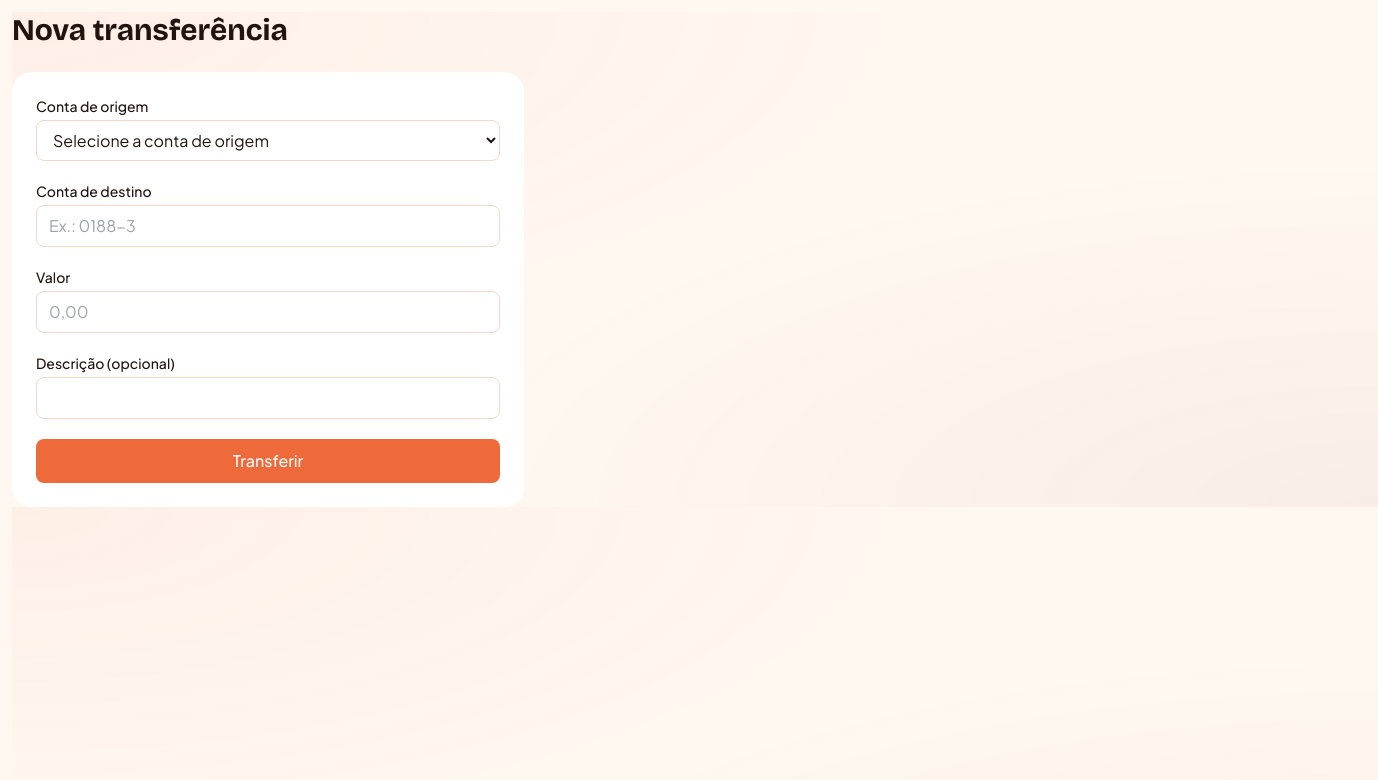
TransferenciaForm › valida campos obrigatórios
The image size is (1378, 780).
expect the dropdown labelled "Conta de origem" is shown: met, box 36,120 -> 500,161
What coordinates should you click on to do the following:
click the button "Transferir"
I would click on:
 (268, 461)
Its box is 36,439 -> 500,483.
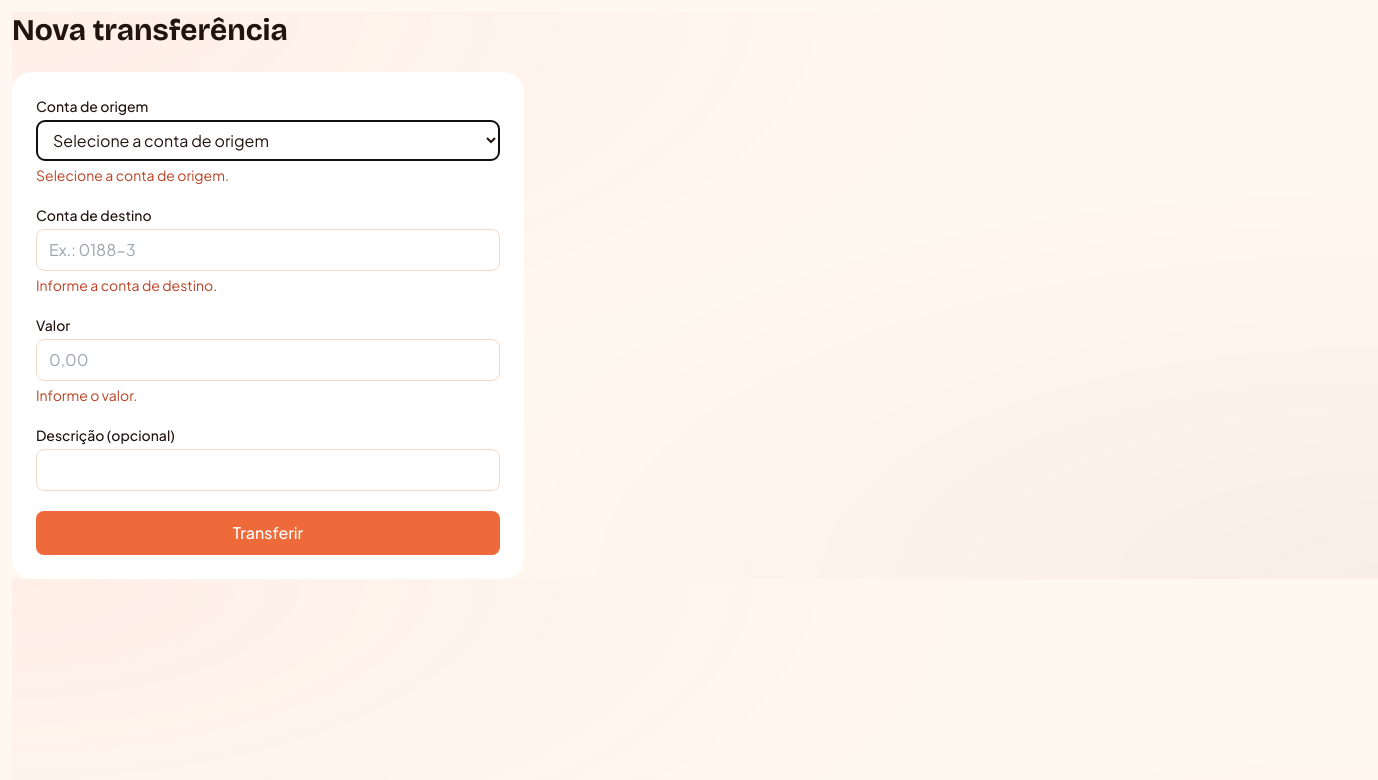
expect the text "Selecione a conta de origem." is shown: met, box 36,166 -> 229,184
expect the text "Informe a conta de destino." is shown: met, box 36,276 -> 217,294
expect the text "Informe o valor." is shown: met, box 36,386 -> 137,404
